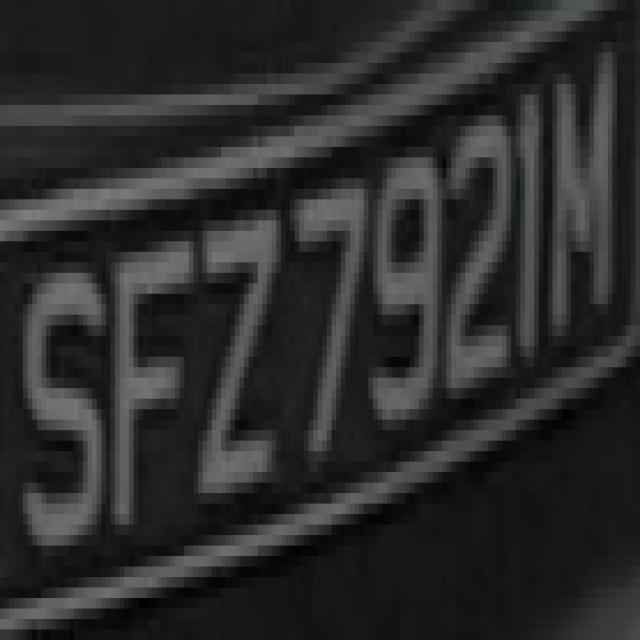1: (511, 52, 548, 378)
2: (442, 94, 511, 410)
7: (272, 168, 364, 462)
9: (364, 147, 442, 451)
F: (102, 210, 194, 556)
M: (539, 63, 626, 378)
S: (23, 231, 115, 587)
Z: (189, 189, 285, 535)
